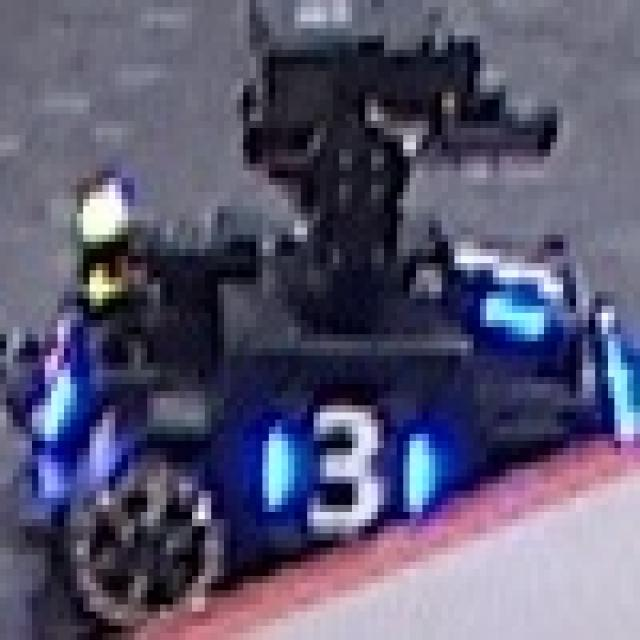B3: (256, 391, 435, 541)
